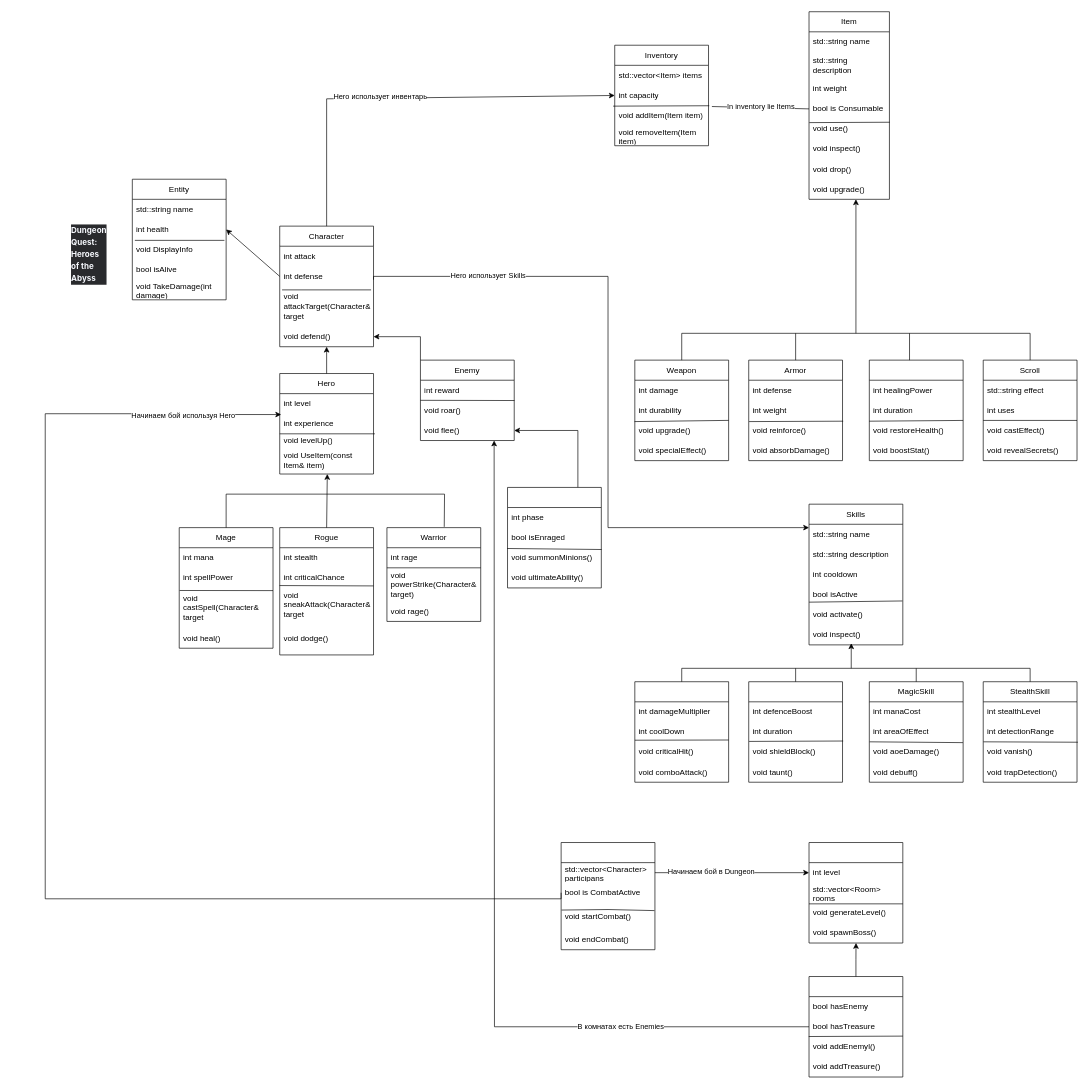
The diagram is 1090 pixels wide and 1089 high, and some of its shapes have lost their labels. Here are the shapes that lost their labels. From the top down, the box of each, then its label:
(869, 359, 963, 461): Potion
(507, 487, 601, 588): Boss
(634, 681, 729, 782): AttackSkill
(748, 681, 843, 782): DefenceSkill
(560, 842, 655, 950): CombatSystem
(808, 842, 903, 943): Dungeon
(808, 976, 903, 1077): Room
